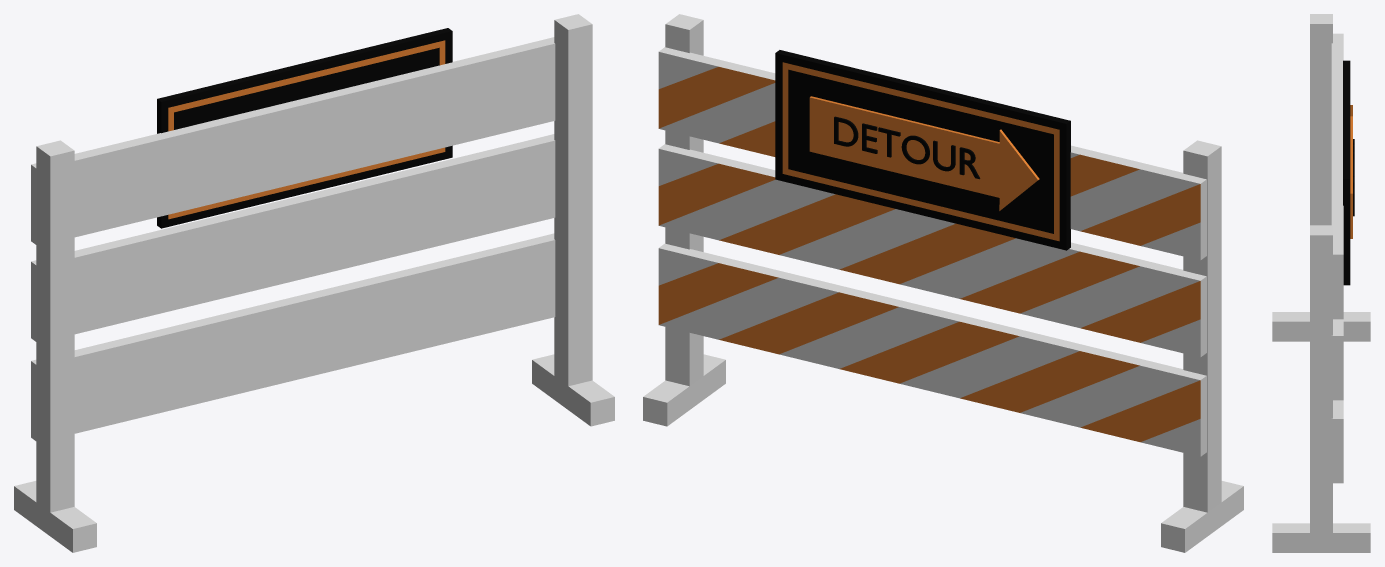
The model's file is detour_right.fbx.
3 renders of one model, left to right at view 1: azimuth 30°, elevation 25°; view 2: azimuth 150°, elevation 25°; view 3: azimuth 270°, elevation 25°, orthographic. The views are drawn at different scales.
Visible parts, largest first — view 1: detour road block with black sign; view 2: detour road block with black sign; view 3: detour road block with black sign.
Part boxes in pixels (x1,y1,x2,y2): detour road block with black sign: [14, 14, 614, 552]; detour road block with black sign: [643, 14, 1243, 552]; detour road block with black sign: [1272, 14, 1370, 552].
Bounding box in the file's own units: 419 × 286 × 78.64.
